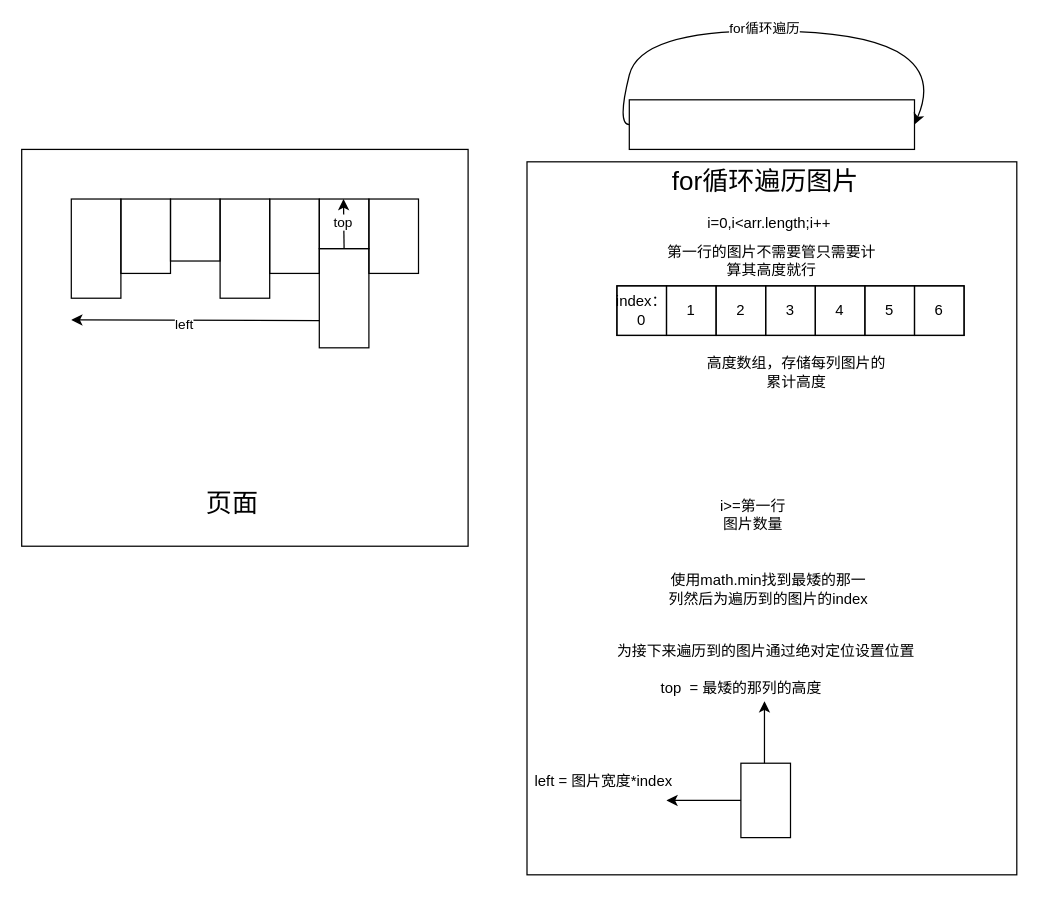
Image size: 1039x897. Some labels were removed from this diagram. Each missing label, with the centre of its shape:
包含所有的图片数组: the point at 771,124
遍历的图片: the point at 343,297
